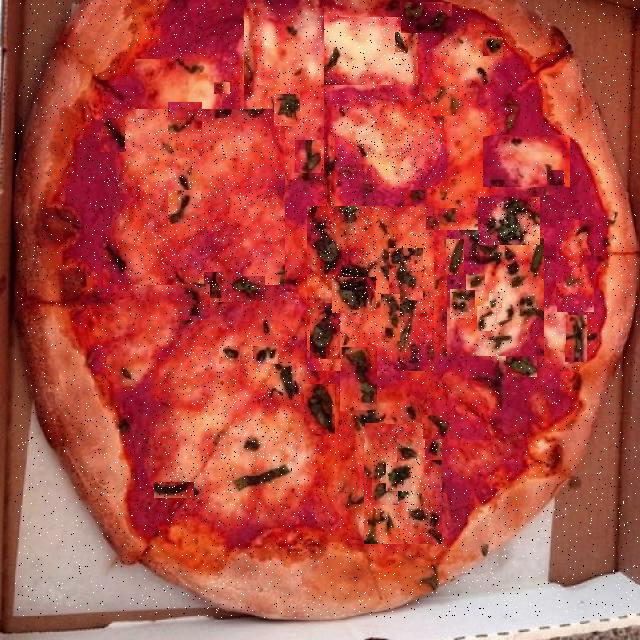Basil: (557, 220, 594, 312), (479, 197, 542, 245), (341, 347, 377, 411), (389, 248, 423, 300), (310, 303, 340, 359), (402, 2, 454, 33), (332, 277, 376, 313), (233, 464, 285, 494), (304, 384, 335, 434), (352, 404, 386, 444), (168, 190, 201, 224), (179, 284, 210, 320), (168, 102, 202, 134), (431, 86, 464, 116), (566, 315, 587, 362), (275, 365, 303, 397), (381, 294, 400, 341), (295, 140, 321, 173), (204, 272, 232, 302), (502, 90, 523, 130), (274, 94, 300, 126), (232, 276, 265, 301), (102, 118, 125, 152), (450, 290, 475, 320), (397, 438, 429, 461), (386, 462, 411, 491), (423, 415, 453, 439), (156, 482, 196, 498), (507, 356, 537, 377), (447, 239, 464, 275), (372, 483, 398, 505), (476, 332, 504, 352), (477, 306, 497, 331), (439, 208, 460, 230), (253, 346, 278, 364), (547, 170, 564, 195), (405, 403, 421, 428), (220, 346, 242, 364), (426, 438, 444, 460), (483, 37, 503, 56), (406, 190, 427, 206), (407, 207, 420, 232), (240, 441, 261, 456), (466, 274, 485, 290), (395, 32, 408, 52), (267, 20, 285, 34), (489, 294, 502, 310), (214, 82, 230, 94), (426, 216, 439, 230)
Cheese: (104, 109, 285, 285), (164, 334, 305, 521), (308, 206, 434, 371), (245, 8, 324, 169), (448, 230, 544, 356), (365, 424, 442, 544), (341, 95, 444, 181), (315, 17, 418, 85), (136, 59, 222, 118), (428, 17, 502, 83), (484, 135, 570, 187), (536, 306, 572, 344)
Pizza: (16, 0, 638, 618)
